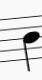B: (19, 10, 41, 74)
